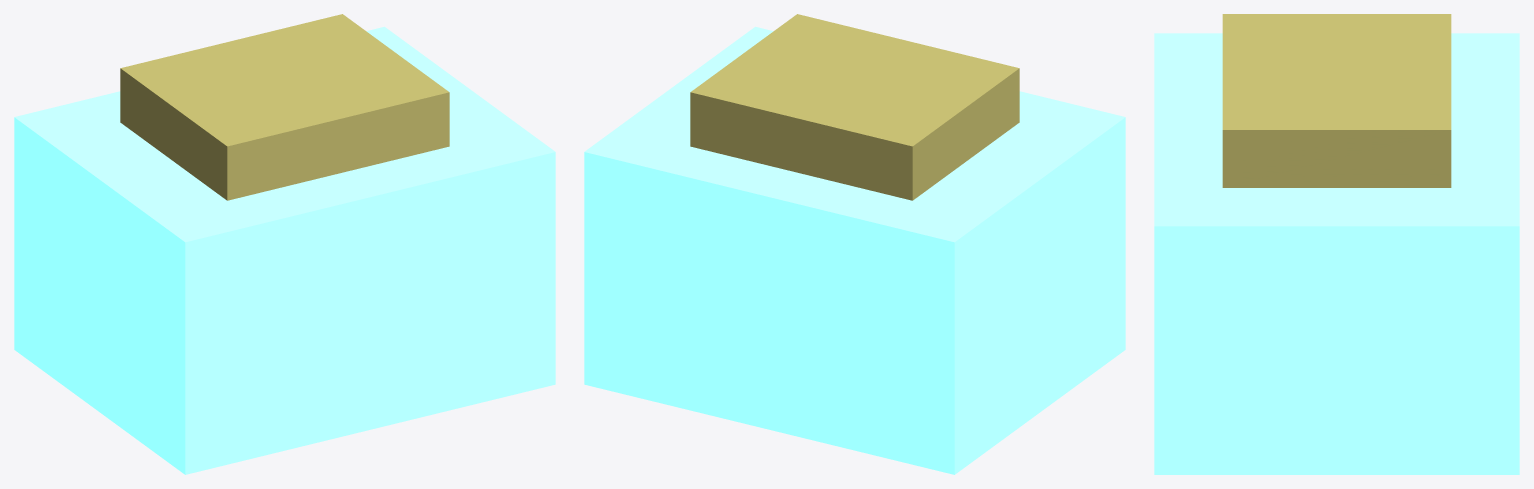
The model's file is SM_Arena_Main_CenterBoard.fbx.
3 renders of one model, left to right at view 1: azimuth 30°, elevation 25°; view 2: azimuth 150°, elevation 25°; view 3: azimuth 270°, elevation 25°, orthographic. The views are drawn at different scales.
Visible parts, largest first — view 1: SM_Arena_Main_CenterBoard; view 2: SM_Arena_Main_CenterBoard; view 3: SM_Arena_Main_CenterBoard.
Boxes of the visible parts, left/top/right/bottom form: SM_Arena_Main_CenterBoard: left=14, top=14, right=555, bottom=474; SM_Arena_Main_CenterBoard: left=584, top=14, right=1125, bottom=474; SM_Arena_Main_CenterBoard: left=1154, top=14, right=1519, bottom=474.
Size of the model in its own units: 1000 by 740 by 800.
